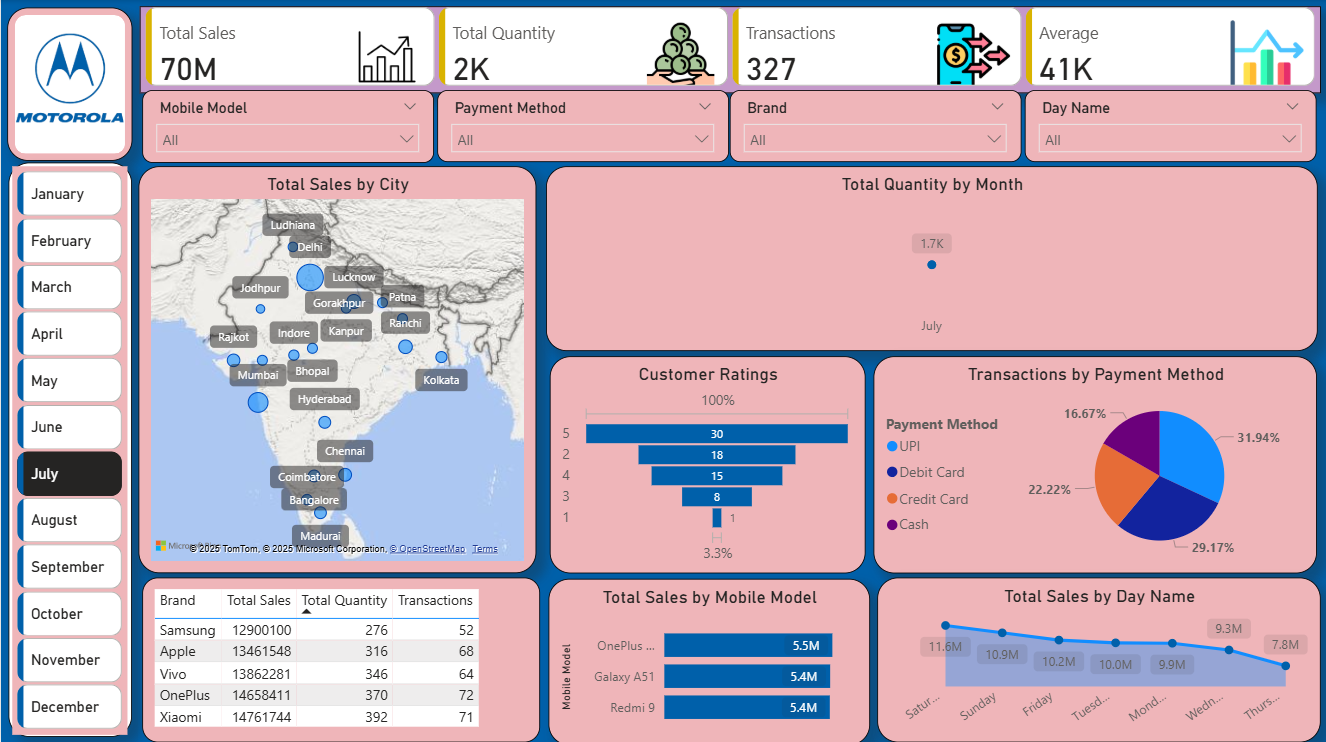

The dashboard page shown, as its layout file describes it:
{"tool":"powerbi","page":{"name":"Page 1","canvas":[1280,720],"ordinal":0},"visuals":[{"type":"shape","box":[5.5,6.9,120.8,148.2],"z":0},{"type":"image","box":[9.6,16.5,113.9,116.6],"z":1000},{"type":"shape","box":[6.9,156.4,119.4,554.4],"z":2000},{"type":"advancedSlicerVisual","fields":{"Values":["Sales_Data.Date.Variation.Date Hierarchy.Month"]},"box":[11,160.5,111.1,548.9],"z":3000},{"type":"cardVisual","fields":{"Data":["Sales_Data.Total Sales","Sales_Data.Total Quantity","Sales_Data.Transactions","Sales_Data.Average"]},"box":[134,5.6,1140.1,83.7],"z":4000},{"type":"map","fields":{"Category":["Sales_Data.City"],"Size":["Sales_Data.Total Sales"]},"box":[132.9,160.8,384.1,393.1],"z":5000},{"type":"lineChart","fields":{"Y":["Sales_Data.Total Quantity"],"Category":["Sales_Data.Date.Variation.Date Hierarchy.Month","Sales_Data.Date.Variation.Date Hierarchy.Day"]},"box":[525.9,160.8,744.8,178.7],"z":6000},{"type":"clusteredBarChart","fields":{"Category":["Sales_Data.Mobile Model"],"Y":["Sales_Data.Total Sales"]},"box":[528.3,558.5,310.1,160.5],"z":7000},{"type":"pieChart","fields":{"Category":["Sales_Data.Payment Method"],"Y":["Sales_Data.Transactions"]},"box":[842.5,344.4,428.1,209.9],"z":8000},{"type":"funnel","title":"Customer Ratings","fields":{"Category":["Sales_Data.Customer Ratings"],"Y":["CountNonNull(Sales_Data.Customer Ratings)"]},"box":[529.7,344.4,304.6,209.9],"z":9000},{"type":"areaChart","fields":{"Category":["Sales_Data.Day Name"],"Y":["Sales_Data.Total Sales"]},"box":[845.3,557.1,428.1,159.2],"z":10000},{"type":"tableEx","fields":{"Values":["Sales_Data.Brand","Sales_Data.Total Sales","Sales_Data.Total Quantity","Sales_Data.Transactions"]},"box":[135.8,557.1,384.2,159.2],"z":11000},{"type":"slicer","fields":{"Values":["Sales_Data.Mobile Model"]},"box":[136.2,87.1,281.4,70.3],"z":12000},{"type":"slicer","fields":{"Values":["Sales_Data.Payment Method"]},"box":[421,87.1,281.4,69.2],"z":13000},{"type":"slicer","fields":{"Values":["Sales_Data.Brand"]},"box":[703.5,87.1,281.4,69.2],"z":14000},{"type":"slicer","fields":{"Values":["Sales_Data.Day Name"]},"box":[988.2,87.1,281.4,69.2],"z":15000}]}

Visuals, with their boxes in screenshot pixels (x1, y1, x2, y2), scaled from the page's 1280x720 canvas onto the 1326x742 screenshot:
shape: {"left": 6, "top": 7, "right": 131, "bottom": 160}
image: {"left": 10, "top": 17, "right": 128, "bottom": 137}
shape: {"left": 7, "top": 161, "right": 131, "bottom": 733}
advancedSlicerVisual - Sales_Data.Date.Variation.Date Hierarchy.Month: {"left": 11, "top": 165, "right": 126, "bottom": 731}
cardVisual - Sales_Data.Total Sales x Sales_Data.Total Quantity: {"left": 139, "top": 6, "right": 1320, "bottom": 92}
map - Sales_Data.City x Sales_Data.Total Sales: {"left": 138, "top": 166, "right": 536, "bottom": 571}
lineChart - Sales_Data.Total Quantity x Sales_Data.Date.Variation.Date Hierarchy.Month: {"left": 545, "top": 166, "right": 1316, "bottom": 350}
clusteredBarChart - Sales_Data.Mobile Model x Sales_Data.Total Sales: {"left": 547, "top": 576, "right": 869, "bottom": 741}
pieChart - Sales_Data.Payment Method x Sales_Data.Transactions: {"left": 873, "top": 355, "right": 1316, "bottom": 571}
"Customer Ratings" funnel: {"left": 549, "top": 355, "right": 864, "bottom": 571}
areaChart - Sales_Data.Day Name x Sales_Data.Total Sales: {"left": 876, "top": 574, "right": 1319, "bottom": 738}
tableEx - Sales_Data.Brand x Sales_Data.Total Sales: {"left": 141, "top": 574, "right": 539, "bottom": 738}
slicer - Sales_Data.Mobile Model: {"left": 141, "top": 90, "right": 433, "bottom": 162}
slicer - Sales_Data.Payment Method: {"left": 436, "top": 90, "right": 728, "bottom": 161}
slicer - Sales_Data.Brand: {"left": 729, "top": 90, "right": 1020, "bottom": 161}
slicer - Sales_Data.Day Name: {"left": 1024, "top": 90, "right": 1315, "bottom": 161}
